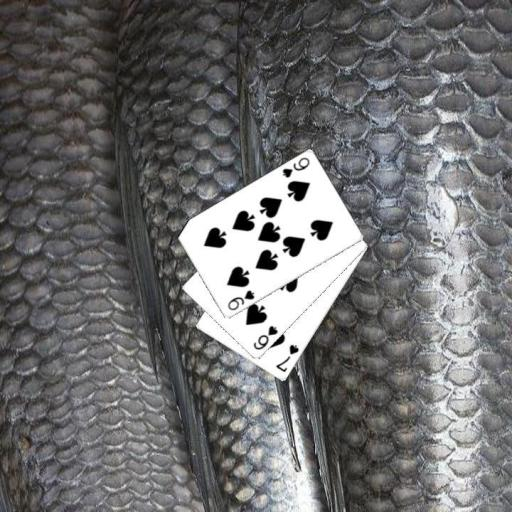6S: (251, 323, 280, 352)
7S: (272, 341, 300, 374)
9S: (279, 154, 311, 180), (224, 287, 256, 312)
